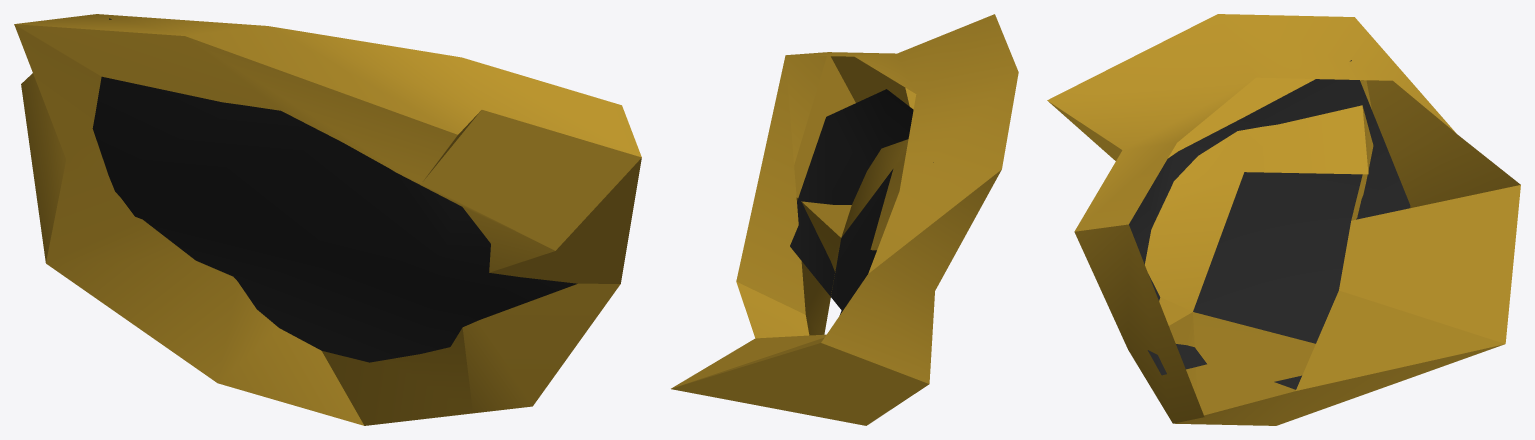
The model's file is Hole.fbx.
The picture shows the model from 3 angles, left to right: view 1: azimuth 30°, elevation 25°; view 2: azimuth 150°, elevation 25°; view 3: azimuth 270°, elevation 25°; orthographic projection. The views are drawn at different scales.
Parts seen in each view (by area): view 1: HoleEdge, Hole; view 2: HoleEdge, Hole; view 3: HoleEdge, Hole.
Part boxes in pixels (box(x1,y1,x2,y2)): HoleEdge: box(14, 14, 641, 425); Hole: box(92, 18, 577, 362); HoleEdge: box(671, 14, 1018, 425); Hole: box(790, 89, 933, 315); HoleEdge: box(1047, 14, 1520, 425); Hole: box(1129, 60, 1410, 389).
Bounding box in the file's own units: 0.825 × 1.04 × 0.8108.
